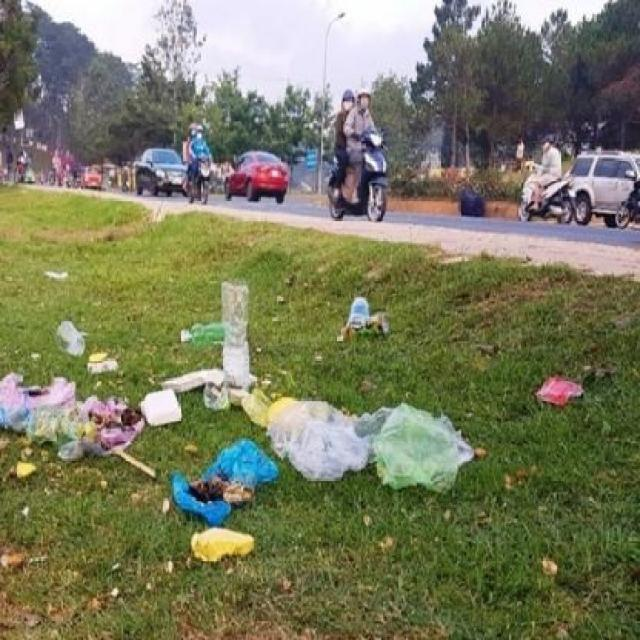plastic bag: (2, 354, 146, 486), (260, 386, 372, 489), (357, 404, 480, 490), (177, 436, 283, 524), (528, 358, 590, 417), (337, 289, 383, 340)
